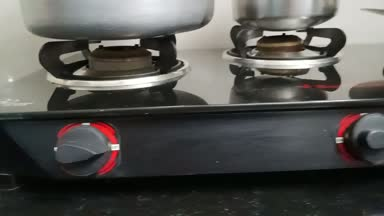flame_gas_off: (24, 29, 177, 193)
